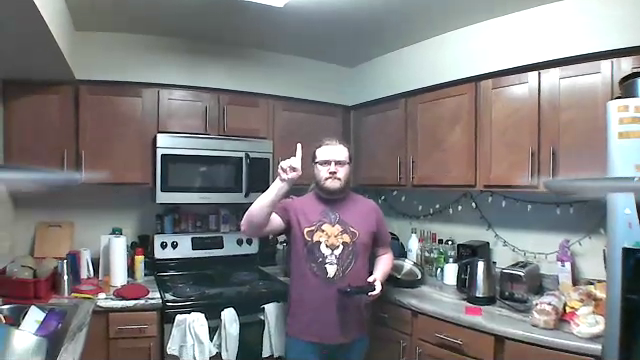up: (273, 140, 305, 185)
